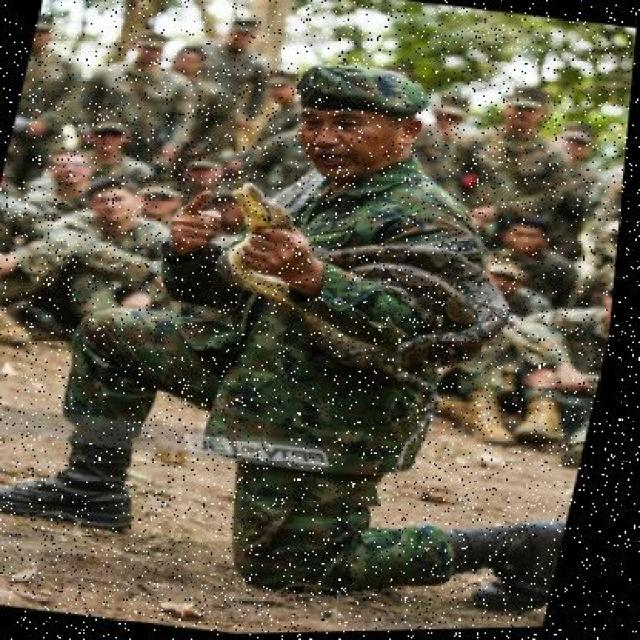MIL_Pax: (0, 0, 498, 129)
